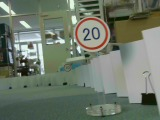speed_20: (73, 16, 111, 52)
